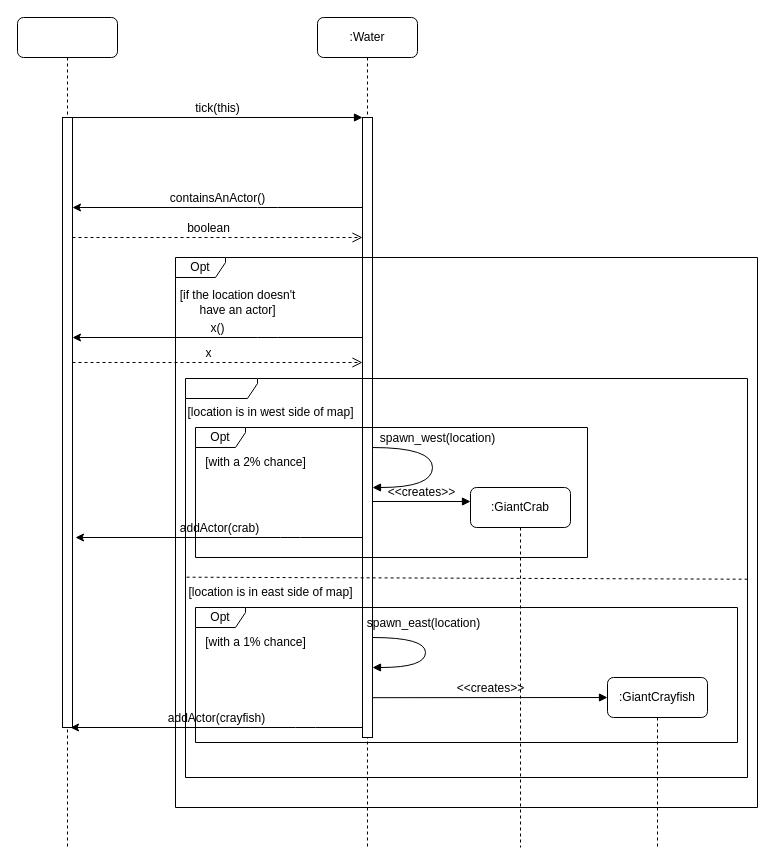
This 775x865 diagram has some shape labels left out. The shapes that lost their labels are listed below. From the top down, each one's box as (x1, y1, x2, y2) in pixels, then its label:
(16, 16, 118, 848): :Location
(184, 378, 748, 778): Alternative
